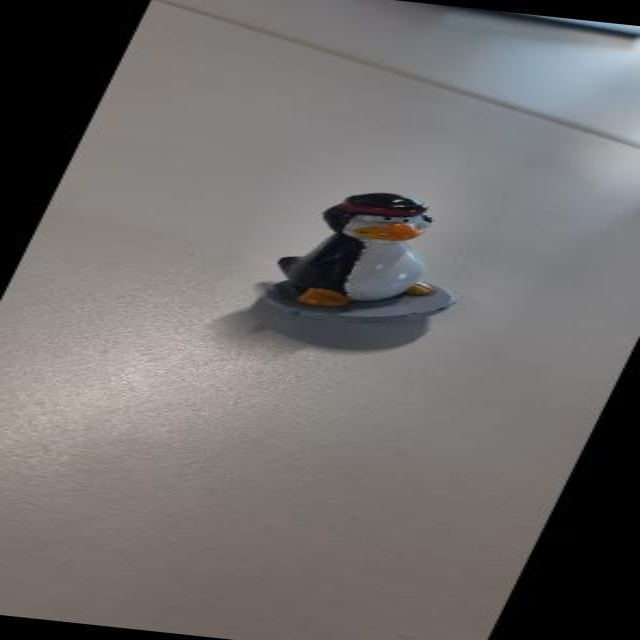Penguin: (225, 173, 509, 346)
